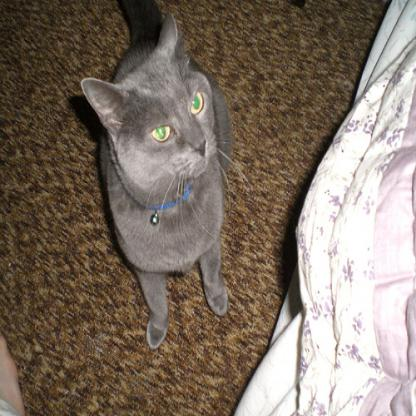cat: (79, 0, 235, 349)
